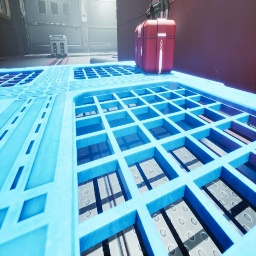FirstAidBox ,: (135, 6, 176, 74)
